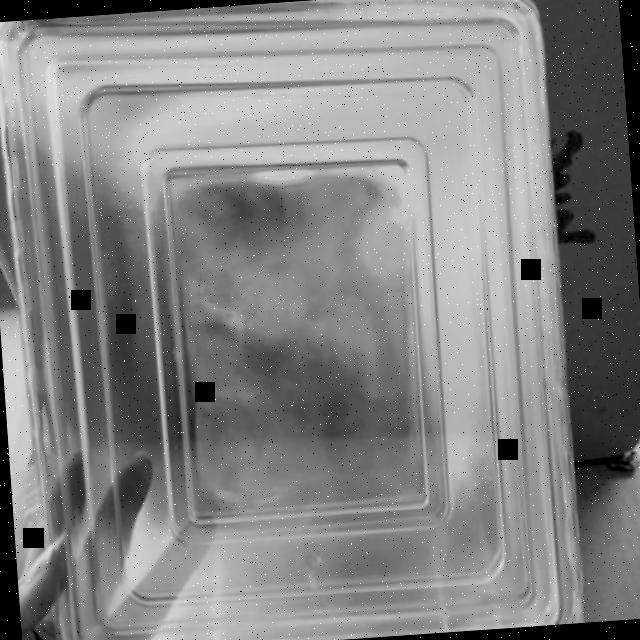plastic_box: (0, 0, 584, 640)
